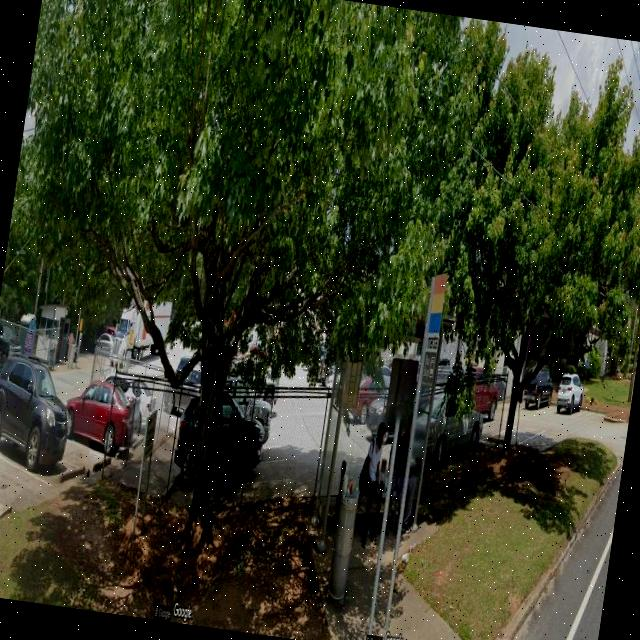seating: (358, 484, 406, 540)
shelter: (306, 302, 452, 570)
trash_can: (326, 476, 364, 607)
